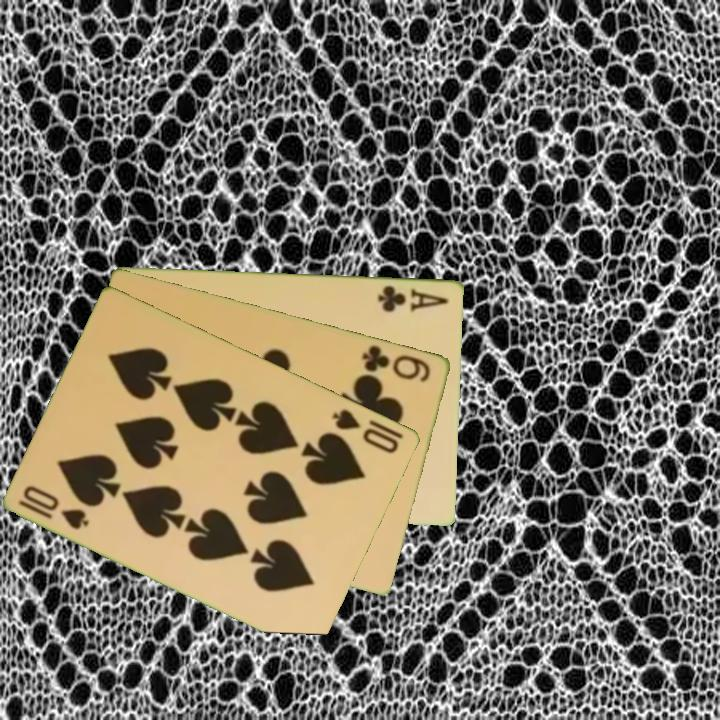10s: (15, 481, 93, 532), (329, 405, 402, 457)
6c: (358, 341, 434, 385)
Ac: (375, 281, 452, 314)
